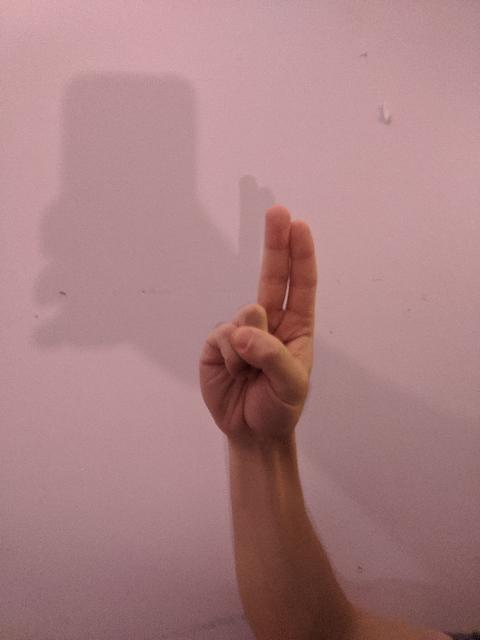U: (195, 200, 324, 446)
